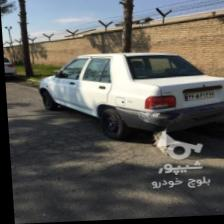plate: (180, 91, 214, 101)
